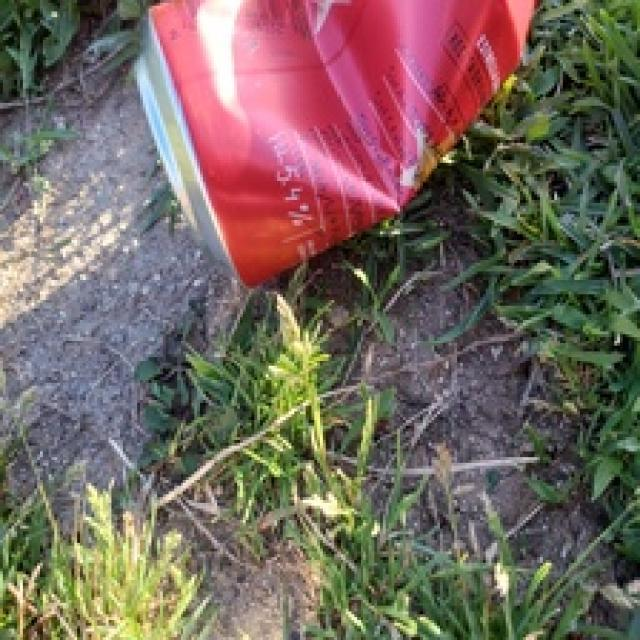recyclable: (131, 0, 538, 292)
